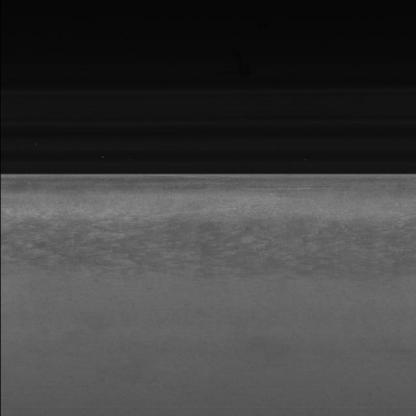silk_spot: (17, 215, 383, 286)
